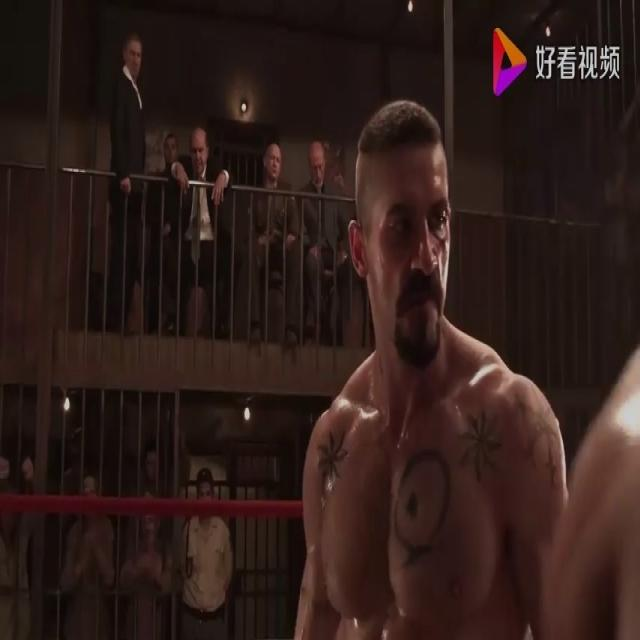fight: (282, 81, 598, 639)
